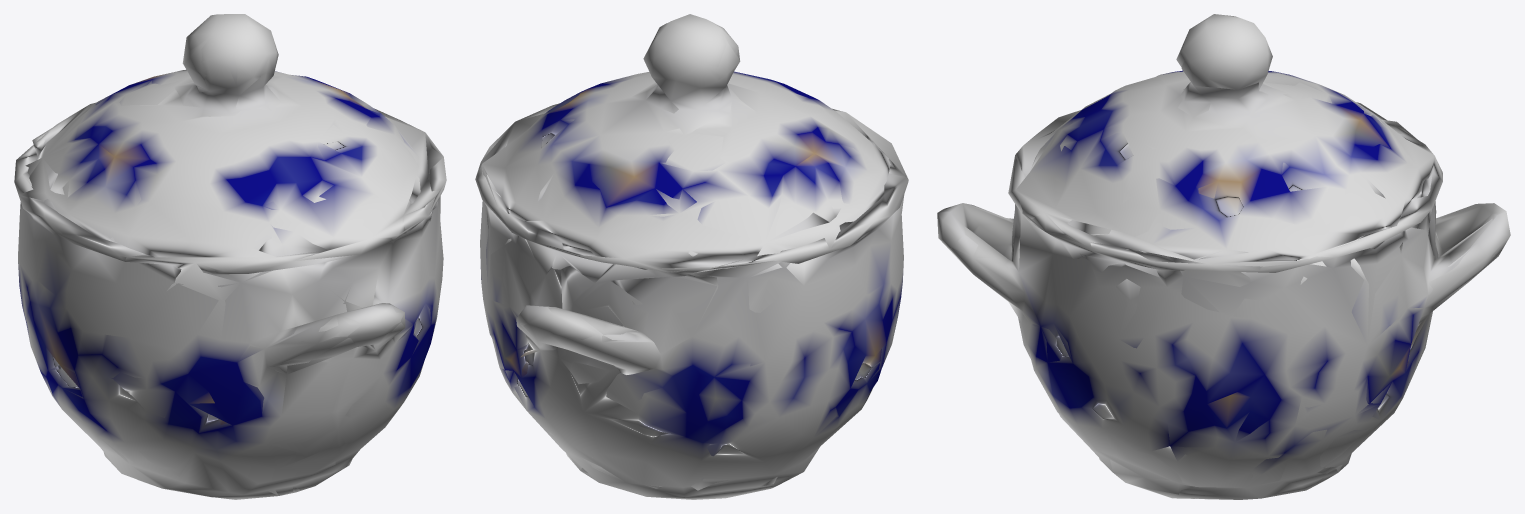
Rendered from gen3d-sugar-bowl-lod0.glb.
The picture shows the model from 3 angles, left to right: view 1: azimuth 30°, elevation 25°; view 2: azimuth 150°, elevation 25°; view 3: azimuth 270°, elevation 25°; orthographic projection.
Parts seen in each view (by area): view 1: part_0; view 2: part_0; view 3: part_0.
Part boxes in pixels (x1,y1,x2,y2): part_0: (14,14,446,499); part_0: (475,14,908,499); part_0: (937,14,1510,499).
Bounding box in the file's own units: 0.9072 × 0.996 × 1.2.
